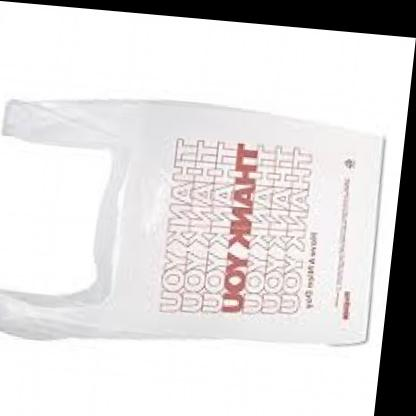Plastic: (0, 55, 398, 366)
